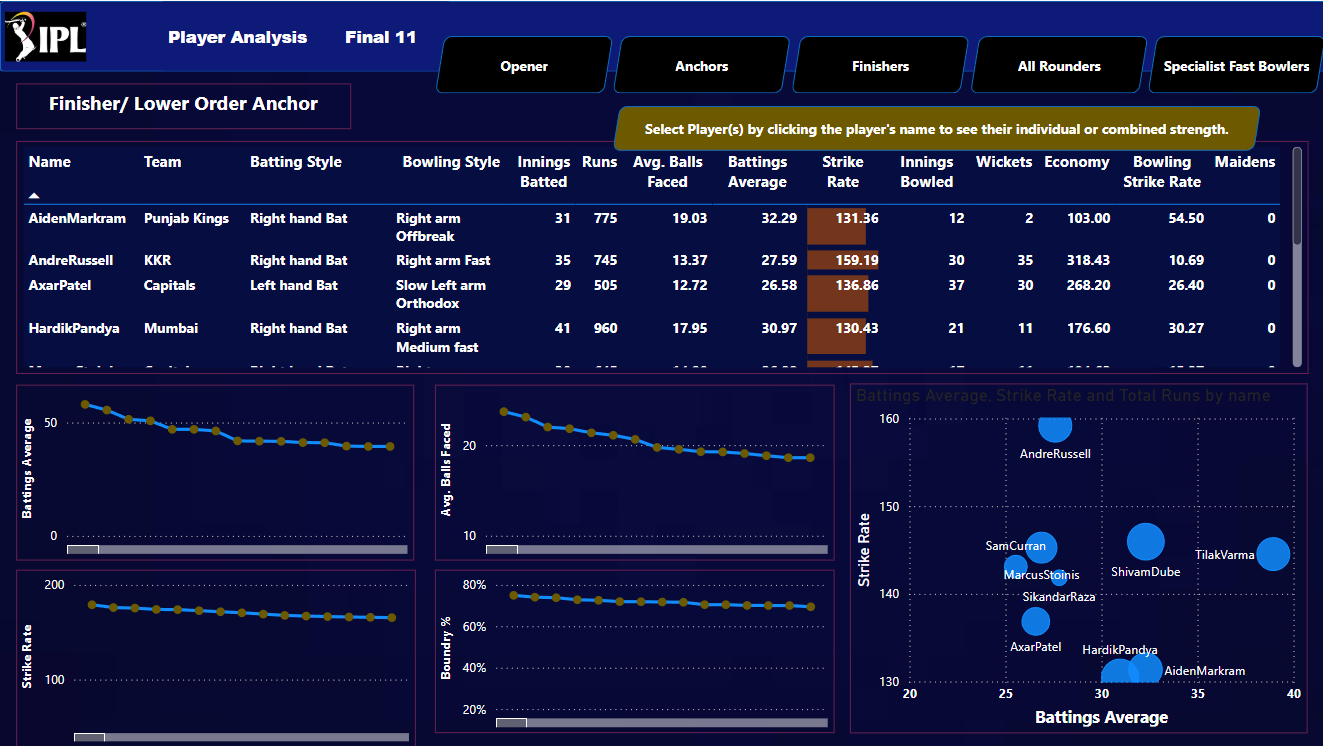

The page's visual inventory and layout, read from the dashboard file:
{"tool":"powerbi","page":{"name":"Finishers","canvas":[1280,720],"ordinal":2},"visuals":[{"type":"shape","box":[0,0,1280,68.3],"z":0},{"type":"actionButton","box":[156.4,0,145.1,68.3],"z":1000},{"type":"actionButton","box":[301.5,0,132.3,68.3],"z":2000},{"type":"shape","box":[591.6,34.1,172.1,55.5],"z":3000},{"type":"shape","box":[763.7,34.1,172.1,55.5],"z":4000},{"type":"shape","box":[935.8,34.1,172.1,55.5],"z":5000},{"type":"shape","box":[1107.9,34.1,172.1,55.5],"z":6000},{"type":"shape","box":[419.6,34.1,172.1,55.5],"z":7000},{"type":"tableEx","fields":{"Values":["dim_players.name","dim_players.team","dim_players.battingStyle","dim_players.bowlingStyle","__Measures.Total Innigs Batted","__Measures.Total Runs","__Measures.Avg. Balls Faced","__Measures.Battings Average","__Measures.Strike Rate","__Measures.Total Innings bowled","Sum(fact_bowling_summary.wickets)","Sum(fact_bowling_summary.economy)"]},"box":[15.6,135.1,1247.3,224.7],"z":8000},{"type":"textbox","box":[15.6,79.6,322.8,44.1],"z":9000},{"type":"lineChart","fields":{"Category":["dim_match_summary.matchDate"],"Y":["__Measures.Battings Average"]},"box":[15.6,369.8,384,169.2],"z":10000},{"type":"lineChart","fields":{"Category":["dim_match_summary.matchDate"],"Y":["__Measures.Avg. Balls Faced"]},"box":[419.6,369.8,385.4,169.2],"z":11000},{"type":"lineChart","fields":{"Category":["dim_match_summary.matchDate"],"Y":["__Measures.Strike Rate"]},"box":[15.6,549,385.4,172.1],"z":12000},{"type":"lineChart","fields":{"Category":["dim_match_summary.matchDate"],"Y":["__Measures.Boundry %"]},"box":[419.6,549,385.4,157.9],"z":13000},{"type":"scatterChart","fields":{"Size":["__Measures.Total Runs"],"X":["__Measures.Battings Average"],"Y":["__Measures.Strike Rate"],"Category":["dim_players.name"]},"box":[820.9,369.3,441.5,337.6],"z":14000},{"type":"shape","box":[591.5,101,626.2,43.3],"z":15000},{"type":"image","box":[0,0,88.1,68.8],"z":16000}]}

Visuals, with their boxes in screenshot pixels (x1, y1, x2, y2), scaled from the page's 1280x720 canvas onto the 1323x746 screenshot:
shape: select_region(0, 0, 1322, 71)
actionButton: select_region(162, 0, 312, 71)
actionButton: select_region(312, 0, 448, 71)
shape: select_region(611, 35, 789, 93)
shape: select_region(789, 35, 967, 93)
shape: select_region(967, 35, 1145, 93)
shape: select_region(1145, 35, 1322, 93)
shape: select_region(434, 35, 612, 93)
tableEx - dim_players.name x dim_players.team: select_region(16, 140, 1305, 373)
textbox: select_region(16, 82, 350, 128)
lineChart - dim_match_summary.matchDate x __Measures.Battings Average: select_region(16, 383, 413, 558)
lineChart - dim_match_summary.matchDate x __Measures.Avg. Balls Faced: select_region(434, 383, 832, 558)
lineChart - dim_match_summary.matchDate x __Measures.Strike Rate: select_region(16, 569, 414, 745)
lineChart - dim_match_summary.matchDate x __Measures.Boundry %: select_region(434, 569, 832, 732)
scatterChart - __Measures.Total Runs x __Measures.Battings Average: select_region(848, 383, 1305, 732)
shape: select_region(611, 105, 1259, 150)
image: select_region(0, 0, 91, 71)
